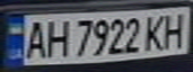2: (124, 15, 145, 54), (109, 15, 127, 56)
7: (69, 16, 93, 58)
9: (90, 16, 112, 57)
A: (21, 17, 48, 60)
H: (160, 10, 190, 48), (42, 16, 69, 58)
K: (142, 11, 169, 52)
